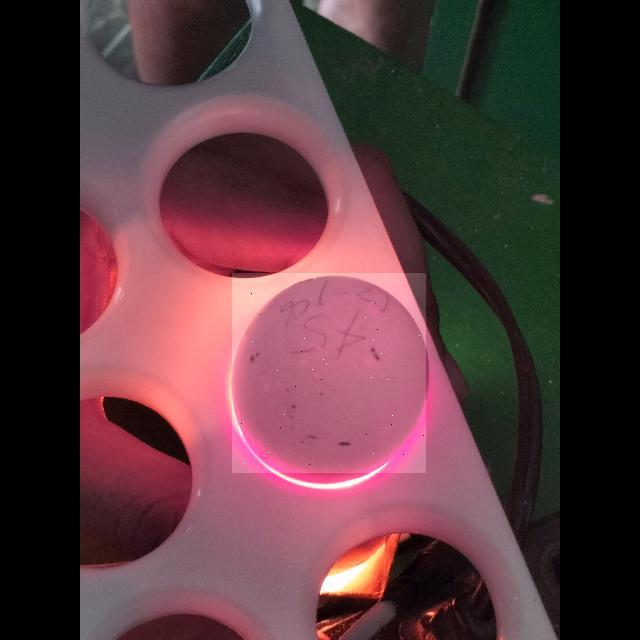Fertile: (232, 273, 426, 473)
